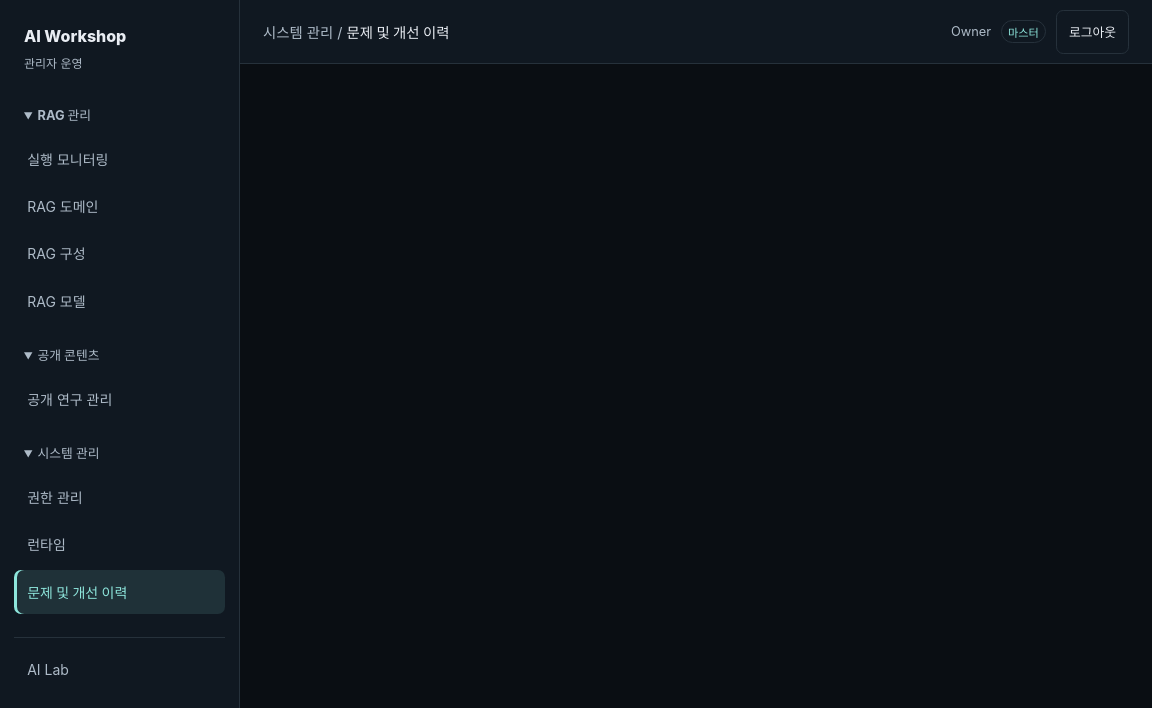
Test case: shows logout failure without leaving administration
Click the button "로그아웃" at point(1092, 32), box left=1056, top=10, right=1129, bottom=54
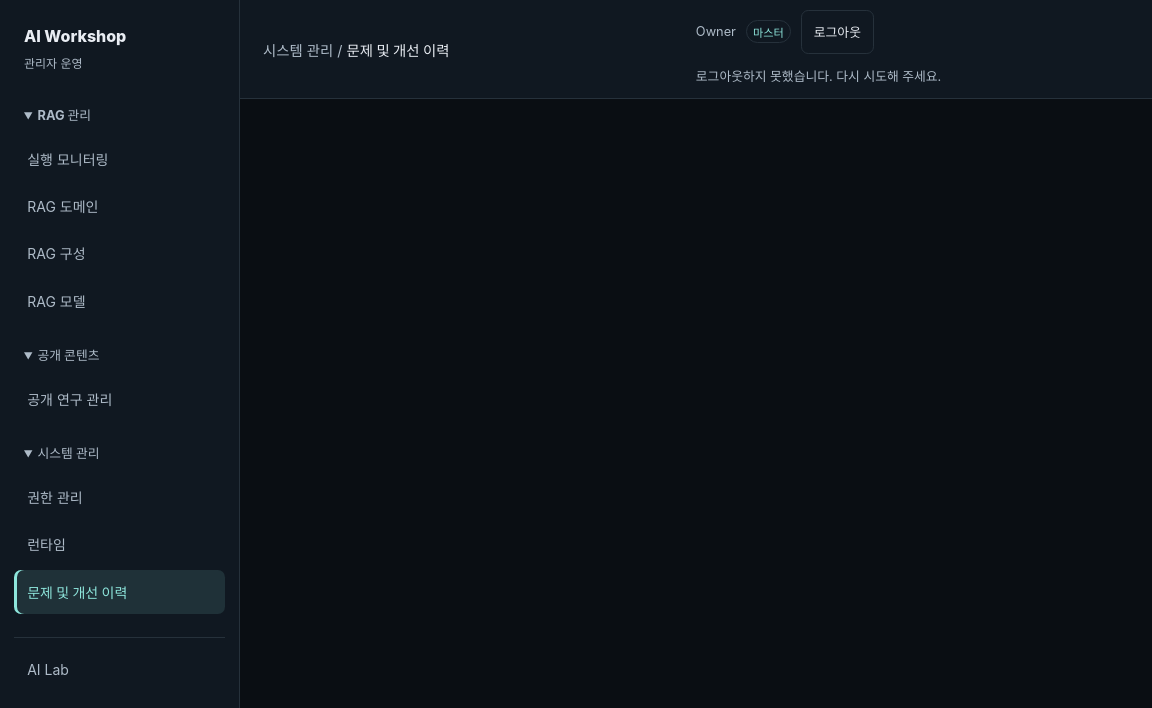
Check: the button "로그아웃" is enabled, box left=801, top=10, right=874, bottom=54
Check: the message shows "다시 시도", box left=696, top=69, right=941, bottom=84
